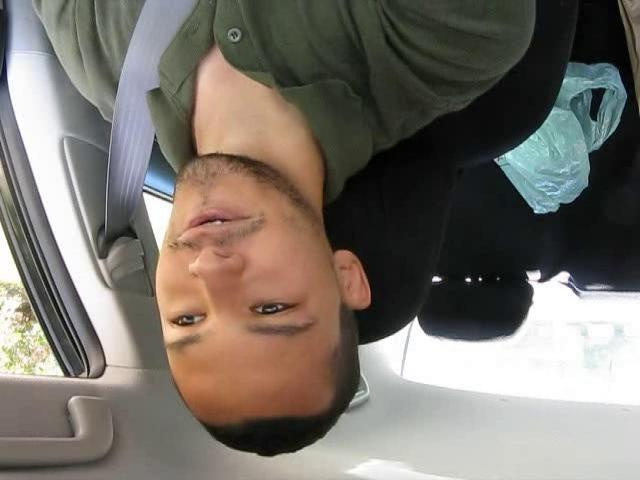eye_open: (244, 293, 304, 321), (163, 306, 209, 332)
face: (149, 152, 325, 364)
